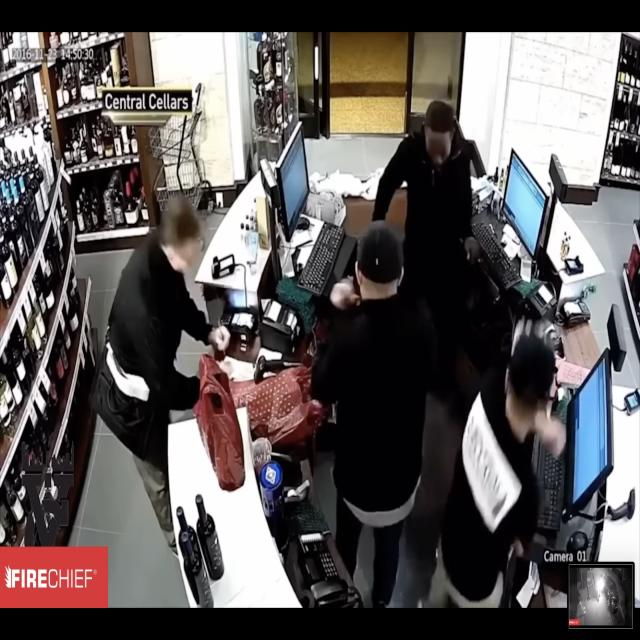Monitorando: (12, 42, 625, 558)
